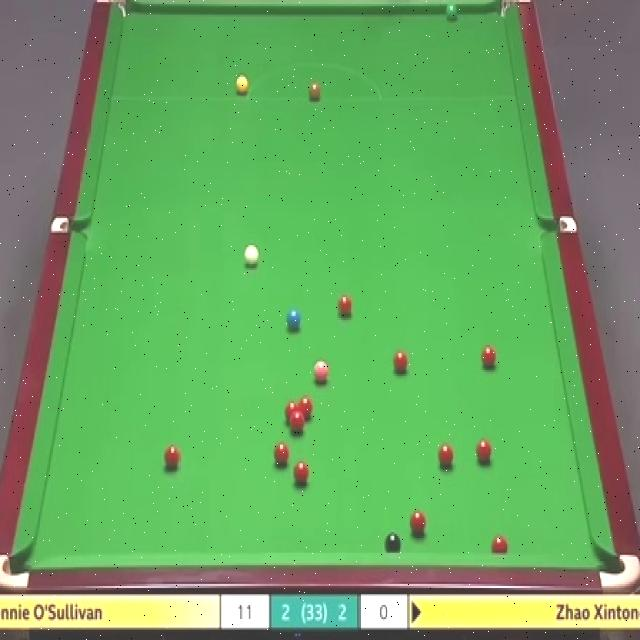black-ball: (385, 531, 402, 553)
blue-ball: (285, 307, 303, 330)
brown-ball: (308, 78, 321, 100)
green-ball: (444, 0, 459, 19)
pink-ball: (313, 361, 330, 386)
red-ball: (159, 445, 182, 470), (293, 456, 311, 486), (437, 443, 456, 470), (409, 511, 427, 539), (336, 293, 354, 320), (392, 347, 409, 375), (476, 438, 494, 464), (270, 444, 290, 467), (480, 345, 496, 371), (284, 401, 299, 426), (299, 396, 313, 421), (490, 534, 509, 552), (290, 414, 306, 434)
white-ball: (243, 244, 258, 270)
yellow-ball: (235, 77, 248, 94)
